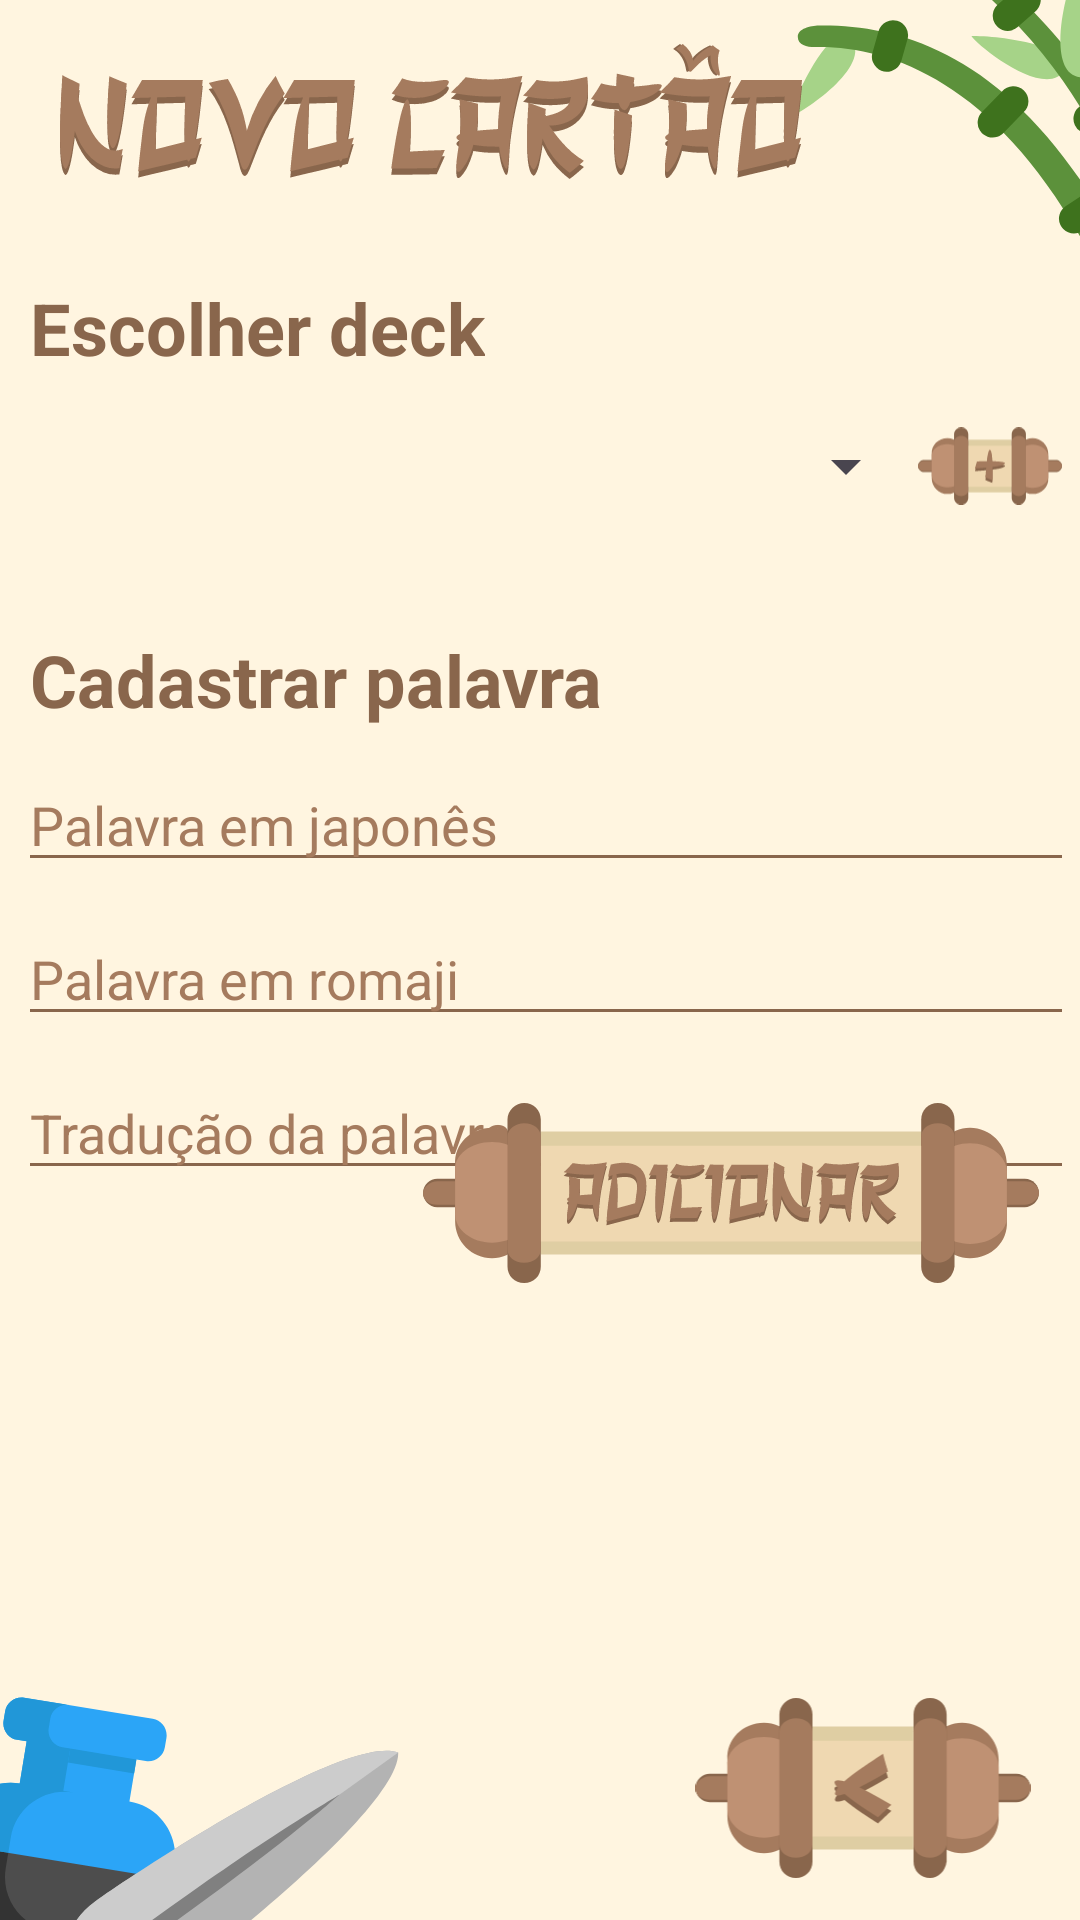

Icons on this 1080×1920 Android screen, each with its box as bbox(x1, y1, x2, y2):
add: bbox(918, 427, 1062, 505)
back: bbox(695, 1698, 1031, 1878)
